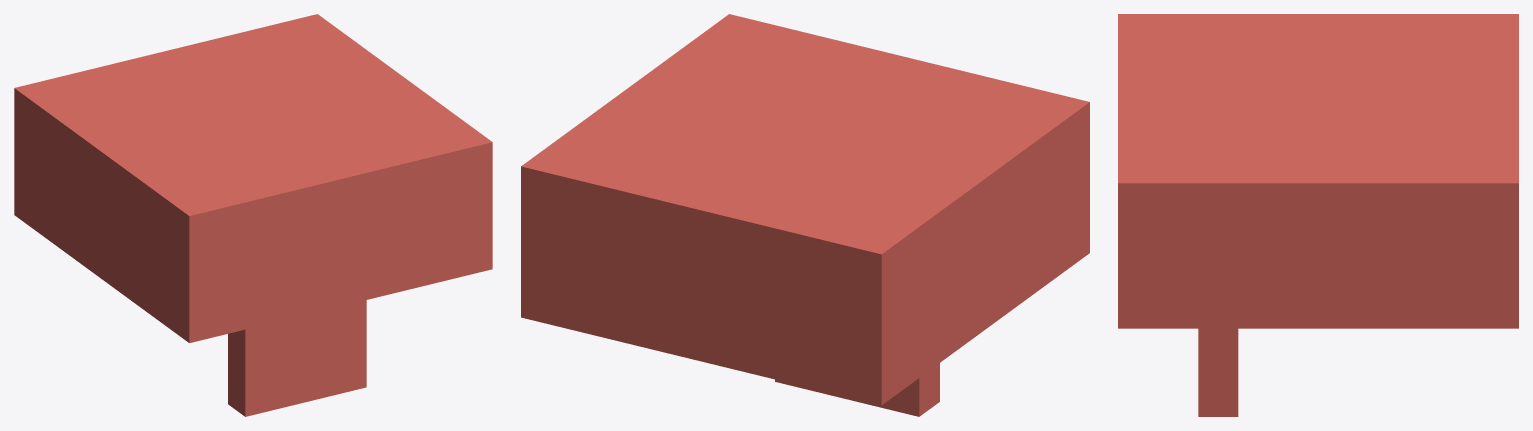
Rendered from scarf_gaiter.glb.
3 renders of one model, left to right at view 1: azimuth 30°, elevation 25°; view 2: azimuth 150°, elevation 25°; view 3: azimuth 270°, elevation 25°, orthographic. The views are drawn at different scales.
Visible parts, largest first — view 1: scarf, tail; view 2: scarf, tail; view 3: scarf, tail.
Boxes of the visible parts, x1,y1,x2,y2 form: scarf: (14,14,492,342); tail: (228,300,366,416); scarf: (521,14,1089,405); tail: (775,363,939,416); scarf: (1118,14,1518,328); tail: (1198,328,1238,416).
Size of the model in its own units: 0.6001 by 0.4701 by 0.6001.
